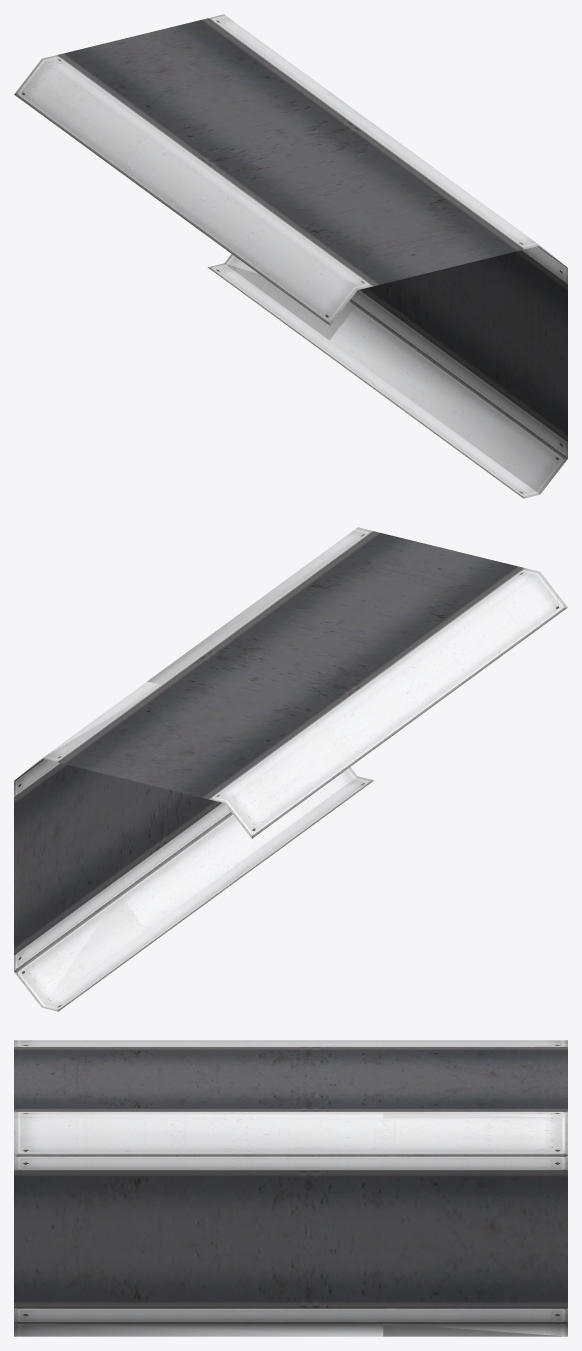
The model's file is GroundTrimCap_1x3.FBX.
The picture shows the model from 3 angles, top to bottom: view 1: azimuth 30°, elevation 25°; view 2: azimuth 150°, elevation 25°; view 3: azimuth 270°, elevation 25°; orthographic projection. The views are drawn at different scales.
Parts seen in each view (by area): view 1: GroundTrimCap_1x3; view 2: GroundTrimCap_1x3; view 3: GroundTrimCap_1x3.
Part boxes in pixels (x1,y1,x2,y2): GroundTrimCap_1x3: (14,14,567,498); GroundTrimCap_1x3: (14,527,567,1011); GroundTrimCap_1x3: (14,1040,567,1336).
Bounding box in the file's own units: 1.3 × 1.3 × 3.
